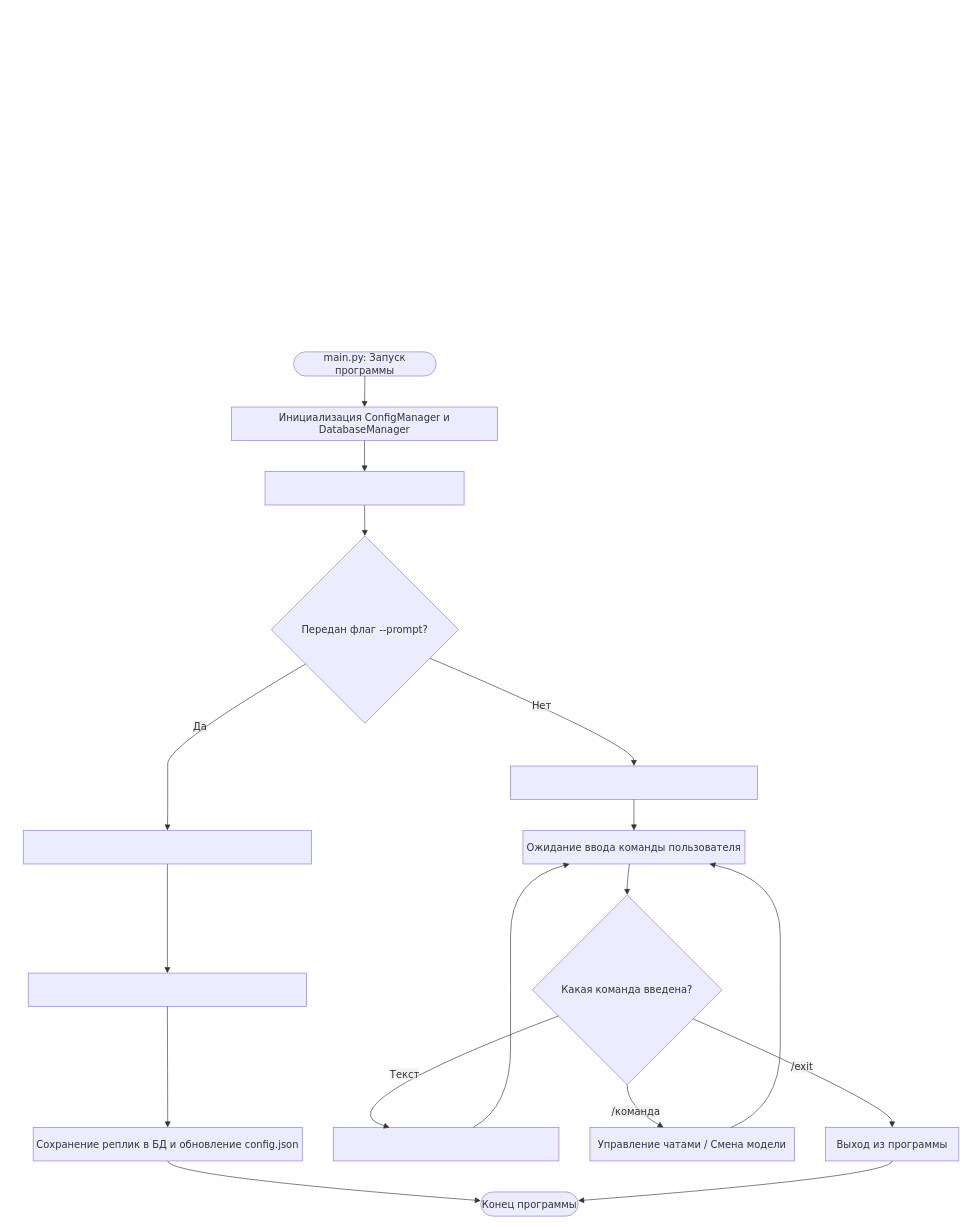
This 970x1227 diagram has some shape labels left out. The box of each missing label's shape, as (x1, y1, x2, y2) in pixels:
Загрузка параметров из config.json: (264, 471, 464, 505)
Запуск бесконечного цикла G4FreeTUI().run(): (510, 765, 757, 799)
Извлечение контекста чата из базы данных storage.db: (23, 830, 312, 864)
Отправка запроса в G4FEngine и потоковый вывод: (28, 972, 307, 1007)
Отправка промпта ИИ + сохранение в БД: (333, 1127, 559, 1161)
